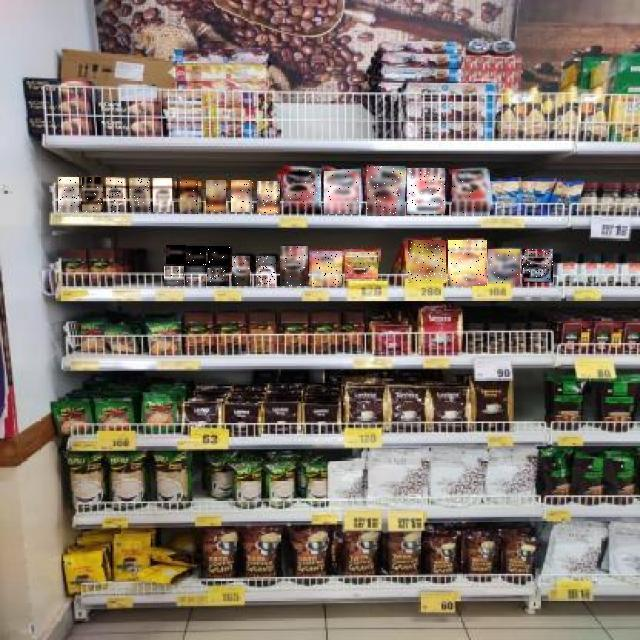Coffee: (367, 166, 405, 216), (448, 240, 487, 286), (407, 169, 445, 215), (452, 170, 490, 216), (408, 240, 446, 283), (284, 169, 319, 213), (324, 171, 359, 214), (489, 250, 521, 286), (280, 246, 308, 286), (522, 250, 553, 286), (313, 251, 343, 286), (345, 252, 378, 279), (257, 181, 280, 214), (58, 177, 79, 212), (82, 177, 103, 212), (232, 180, 254, 212), (130, 179, 150, 213), (106, 178, 125, 213), (153, 179, 172, 213), (206, 180, 226, 212), (256, 256, 276, 287), (180, 180, 198, 214), (232, 256, 250, 286), (208, 246, 230, 265), (164, 266, 184, 286), (166, 245, 186, 264), (186, 266, 205, 286), (208, 268, 228, 286), (188, 246, 206, 265)
